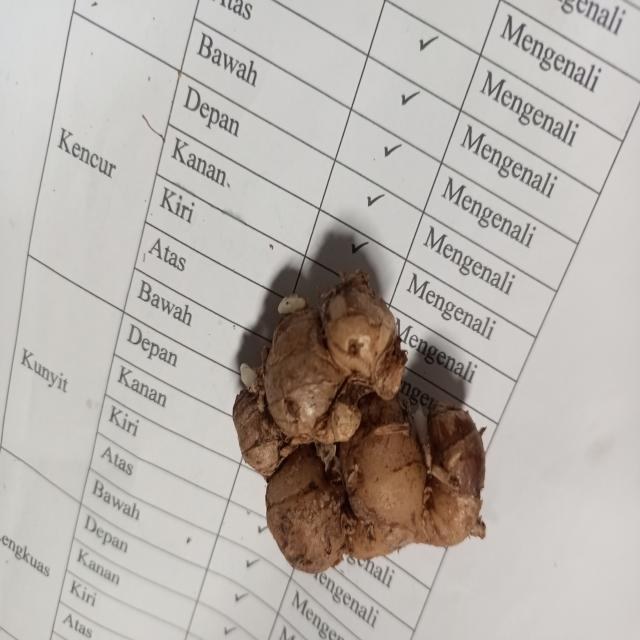ginger: (234, 274, 478, 544)
